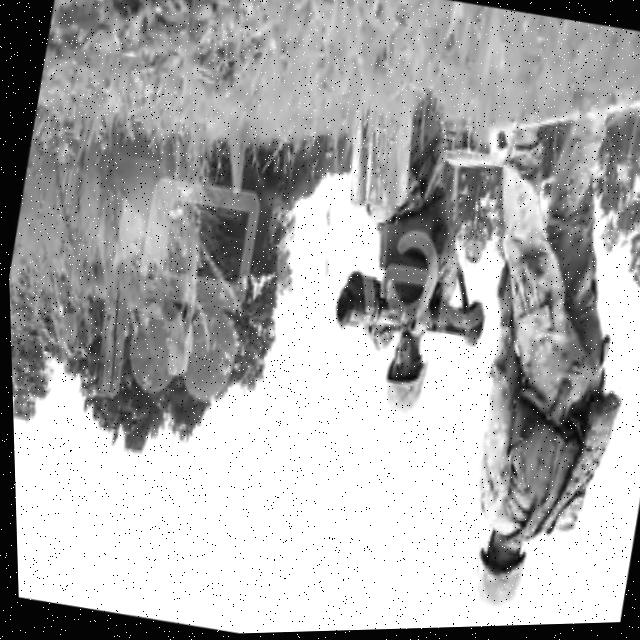rocket: (331, 271, 487, 357)
